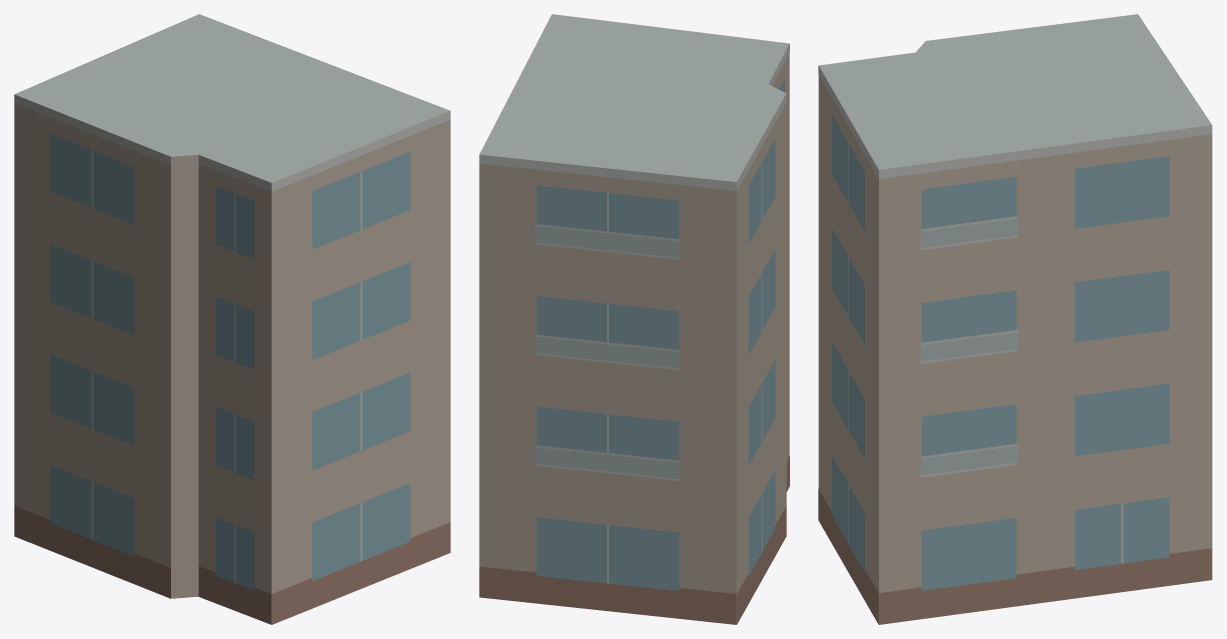
The model's file is survey-upis-32971599.glb.
3 renders of one model, left to right at view 1: azimuth 30°, elevation 25°; view 2: azimuth 150°, elevation 25°; view 3: azimuth 270°, elevation 25°, orthographic. The views are drawn at different scales.
Parts seen in each view (by area): view 1: survey-upis-32971599.tmp; view 2: survey-upis-32971599.tmp; view 3: survey-upis-32971599.tmp.
Part boxes in pixels (x1,y1,x2,y2): survey-upis-32971599.tmp: [14, 14, 450, 624]; survey-upis-32971599.tmp: [479, 14, 789, 624]; survey-upis-32971599.tmp: [818, 14, 1212, 624].
Bounding box in the file's own units: 8.98 × 12.2 × 9.58.
